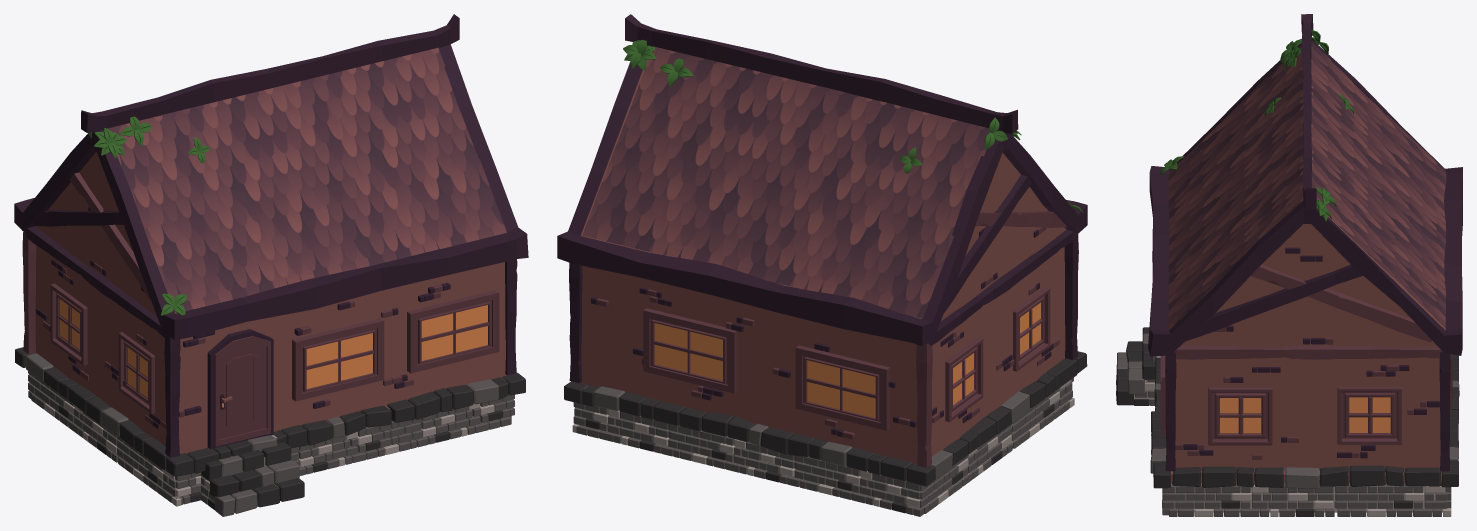
Rendered from casa-pedra3.fbx.
The picture shows the model from 3 angles, left to right: view 1: azimuth 30°, elevation 25°; view 2: azimuth 150°, elevation 25°; view 3: azimuth 270°, elevation 25°; orthographic projection. The views are drawn at different scales.
Parts seen in each view (by area): view 1: CasaPedra3, PortaCasaPedra3; view 2: CasaPedra3; view 3: CasaPedra3.
Part boxes in pixels (x1,y1,x2,y2): CasaPedra3: [14, 14, 528, 516]; PortaCasaPedra3: [214, 336, 270, 446]; CasaPedra3: [557, 14, 1087, 516]; CasaPedra3: [1116, 14, 1462, 516].
Bounding box in the file's own units: 5.21 × 4.61 × 4.3.
